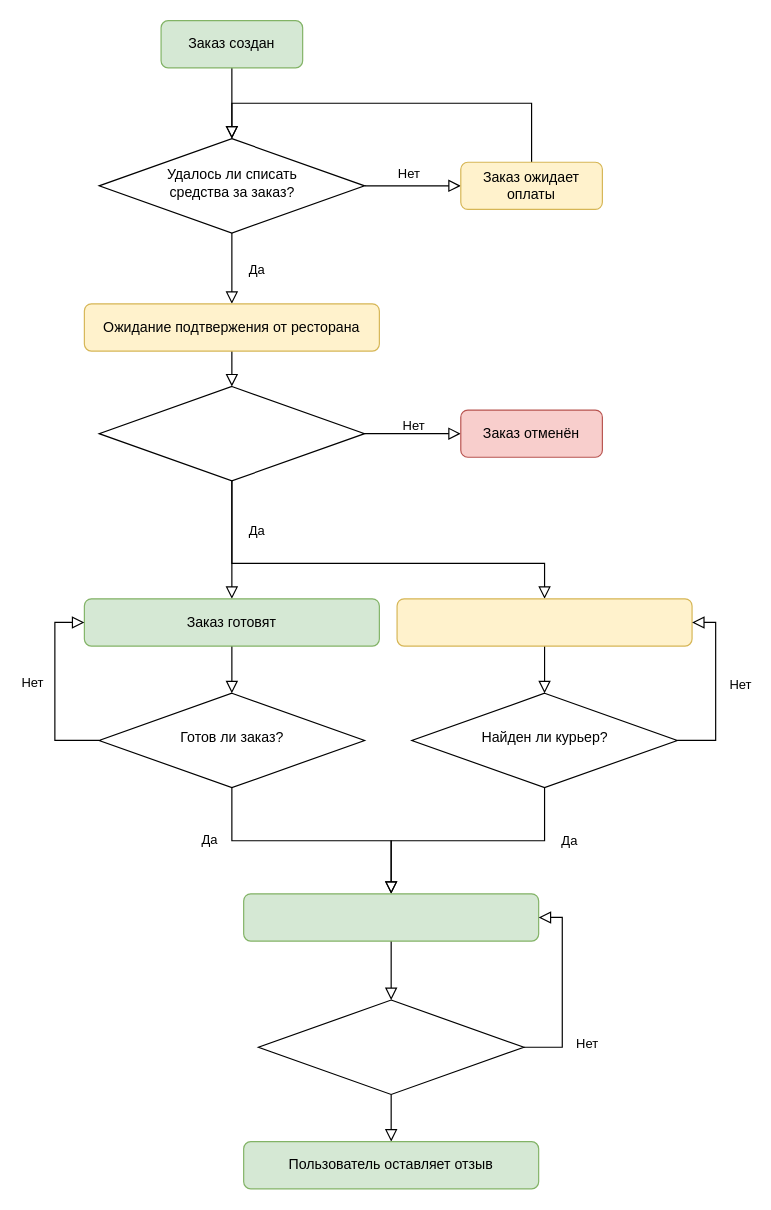
This 771x1210 diagram has some shape labels left out. Each missing label, with the centre of its shape:
Заказ получен?: [390,1046]
Курьер забрал заказ и везёт его к вам: [390,917]
Подтвердил ли заказ ресторан?: [231,433]
Поиск курьера: [544,622]
